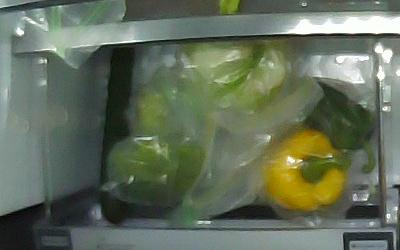broccoli_vinyl: (108, 90, 206, 206)
cucumber: (98, 47, 135, 224)
lettuce_vinyl: (181, 37, 289, 108)
paprika_vinyl: (260, 129, 352, 211), (299, 80, 376, 173)
